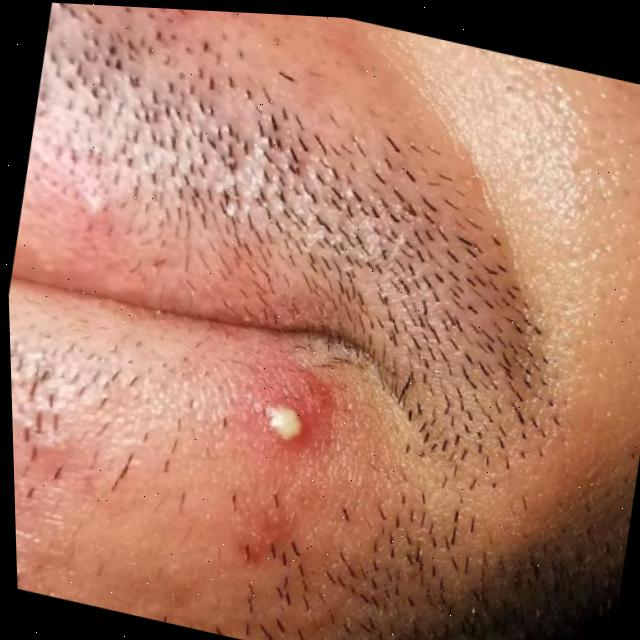Acne: (254, 385, 317, 439)
